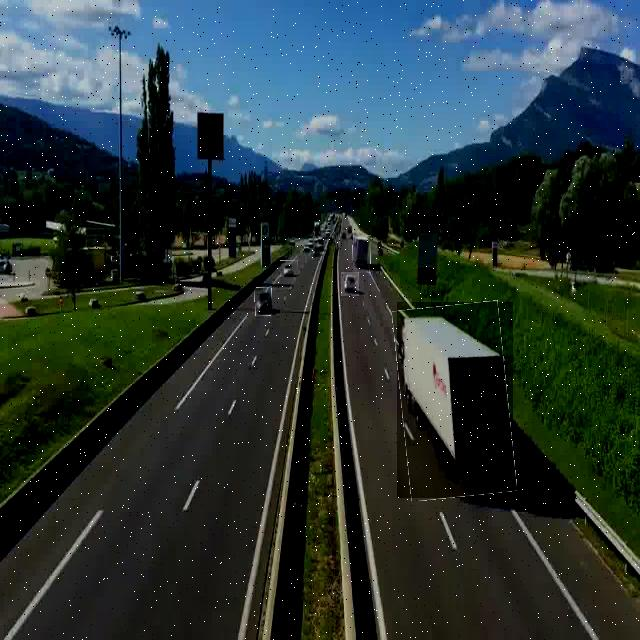Car: (255, 288, 272, 316), (341, 272, 359, 296), (280, 260, 298, 277)
Truck: (397, 302, 513, 498), (353, 235, 371, 273)
